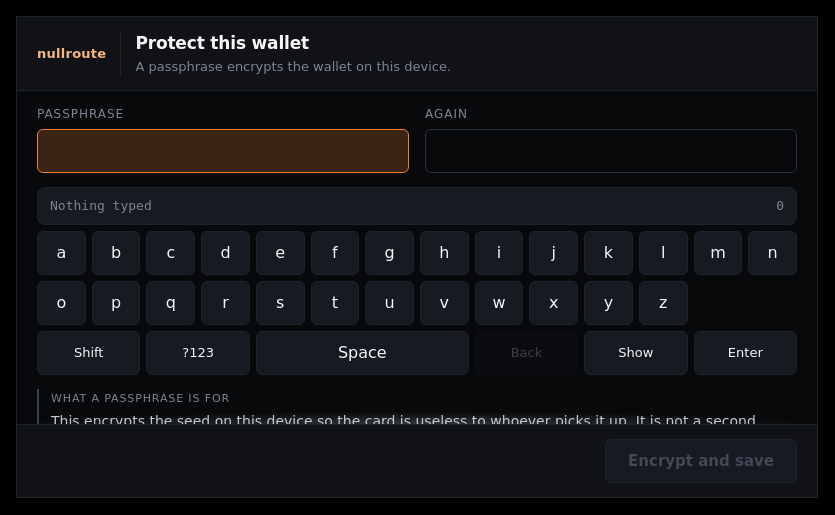
Scenario: ui.screens.passphrase › requires-the-passphrase-twice-when-setting
Expected: the button with test id "passphrase-submit" is disabled, [605,439,797,483]
Type "correct horse battery staple" into the password field with test id "passphrase-input". click: coordinates (223, 151)
box: [37,129,409,173]
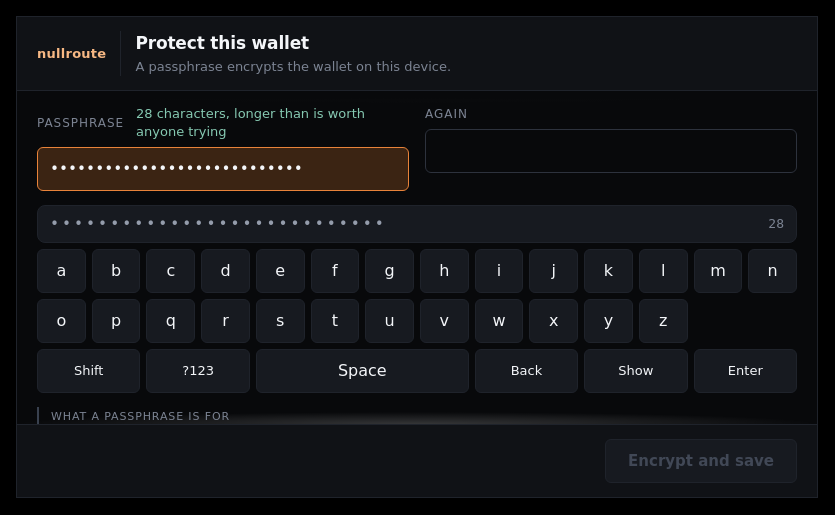
Expected: the button with test id "passphrase-submit" is disabled, [605,439,797,483]
Type "correct horse battery stapl" into the password field with test id "passphrase-confirm". click: coordinates (611, 151)
box: [425,129,797,173]
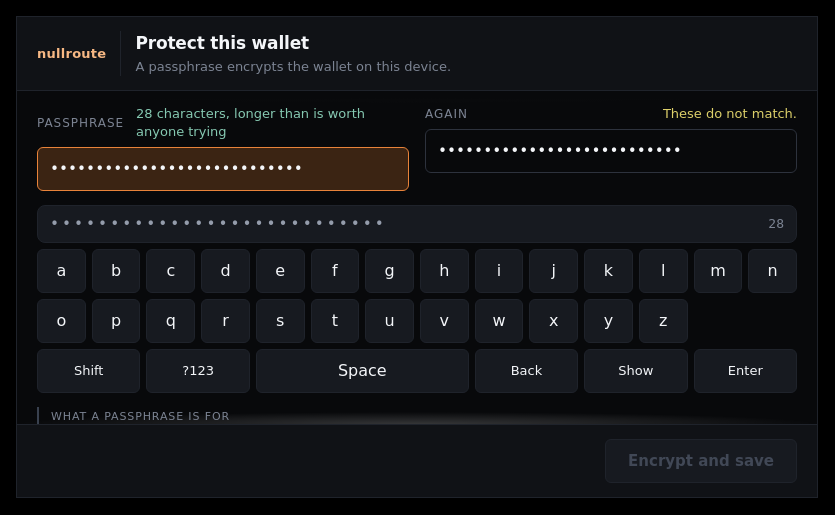
Expected: the button with test id "passphrase-submit" is disabled, [605,439,797,483]
Expected: the text "do not match" is shown, [663,106,797,121]
Type "correct horse battery staple" into the password field with test id "passphrase-confirm". click: coordinates (611, 151)
box: [425,129,797,173]
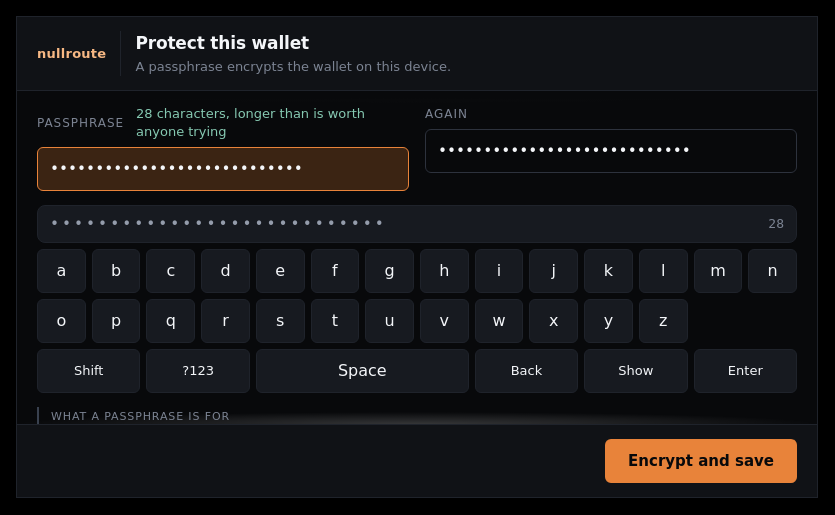
Expected: the button with test id "passphrase-submit" is enabled, [605,439,797,483]
